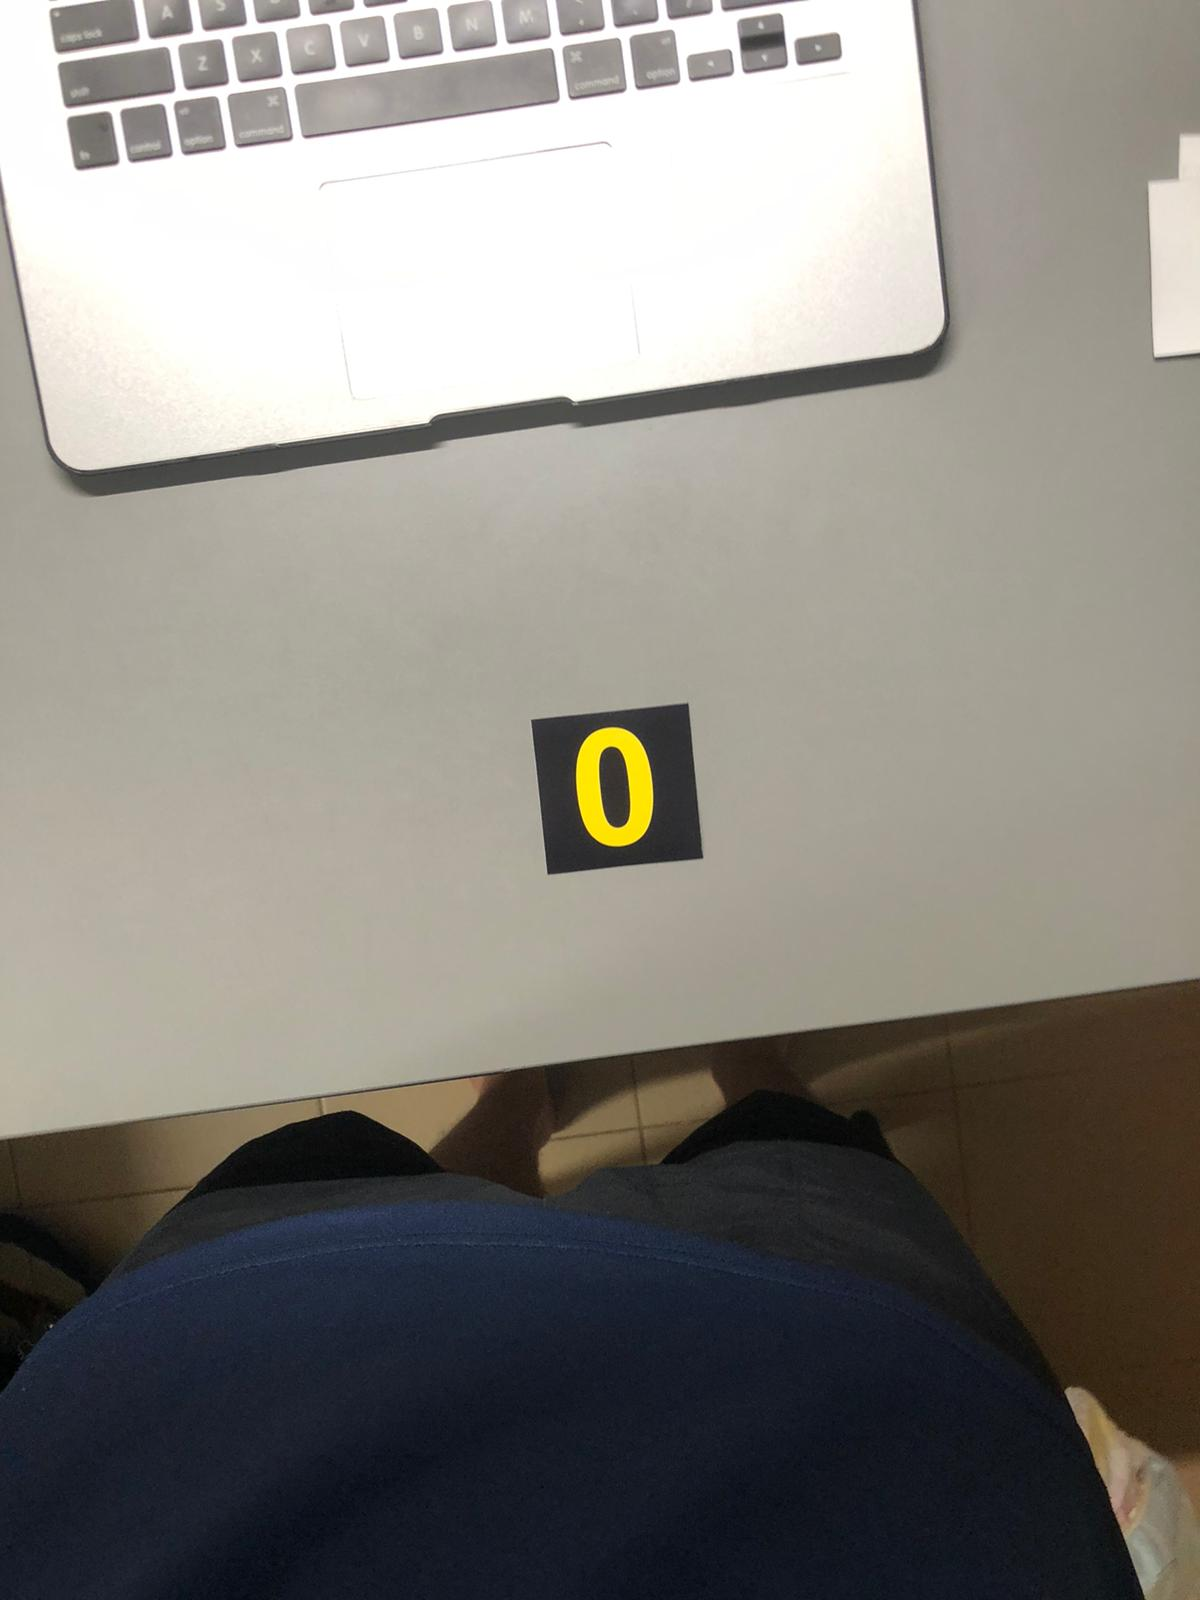Number 0: (524, 708, 701, 874)
